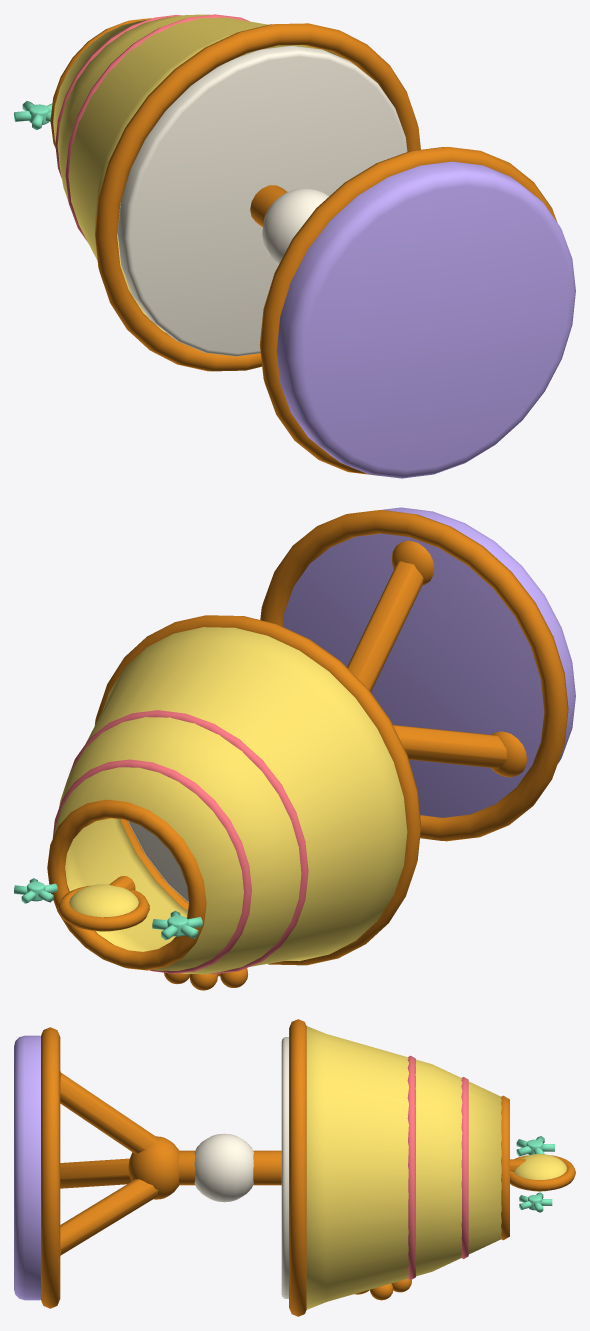
The model's file is BedroomNightLight_Premium.fbx.
3 views of the same model, one above another, from view 1: azimuth 30°, elevation 25°; view 2: azimuth 150°, elevation 25°; view 3: azimuth 270°, elevation 25° (orthographic). The views are drawn at different scales.
Visible parts, largest first — view 1: BedroomNightLight; view 2: BedroomNightLight; view 3: BedroomNightLight.
Part boxes in pixels (bbox=[...]): BedroomNightLight: bbox=[14, 14, 575, 478]; BedroomNightLight: bbox=[14, 507, 575, 990]; BedroomNightLight: bbox=[14, 1019, 575, 1316].
Size of the model in its own units: 0.452 by 0.4495 by 0.85.
